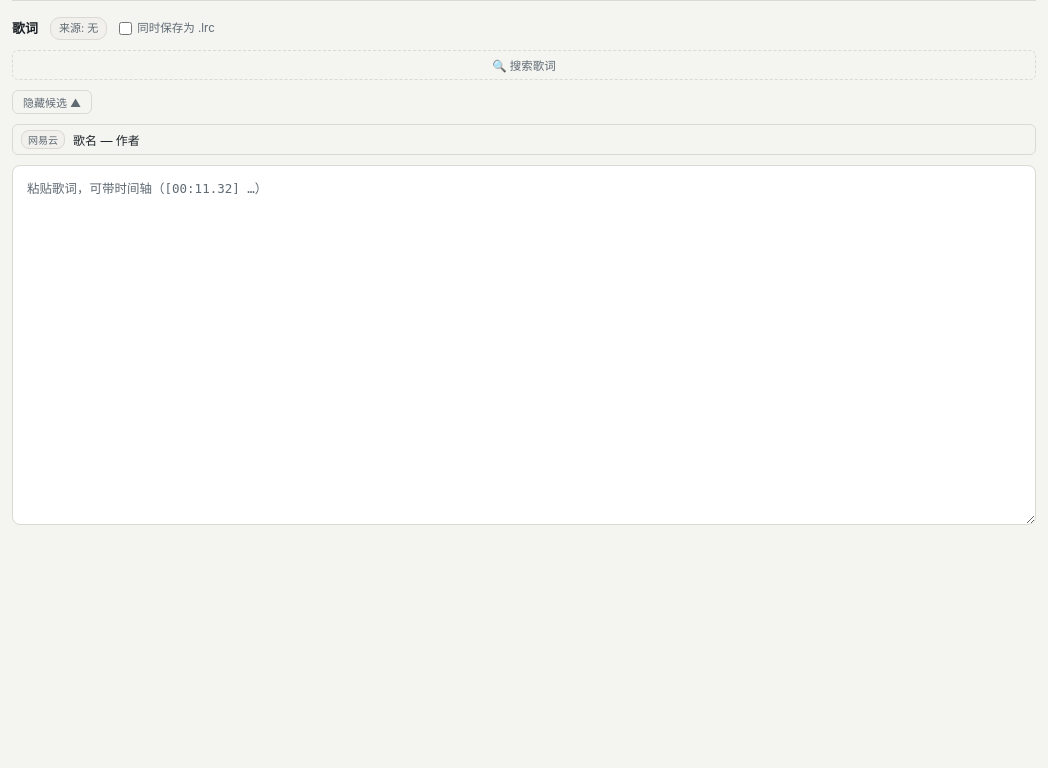
Test: LyricPanel — 歌词候选区（v1-search-ui D8：status/列表/空态/离线） › 点选候选 → fetch_lyric 拉文本填入 current.lyrics + badge 更新为平台（D4，仍可编辑）
The image size is (1048, 768).
Step 1. Click the button with class "cand-row" → (43, 139), box [12,124,1036,154]
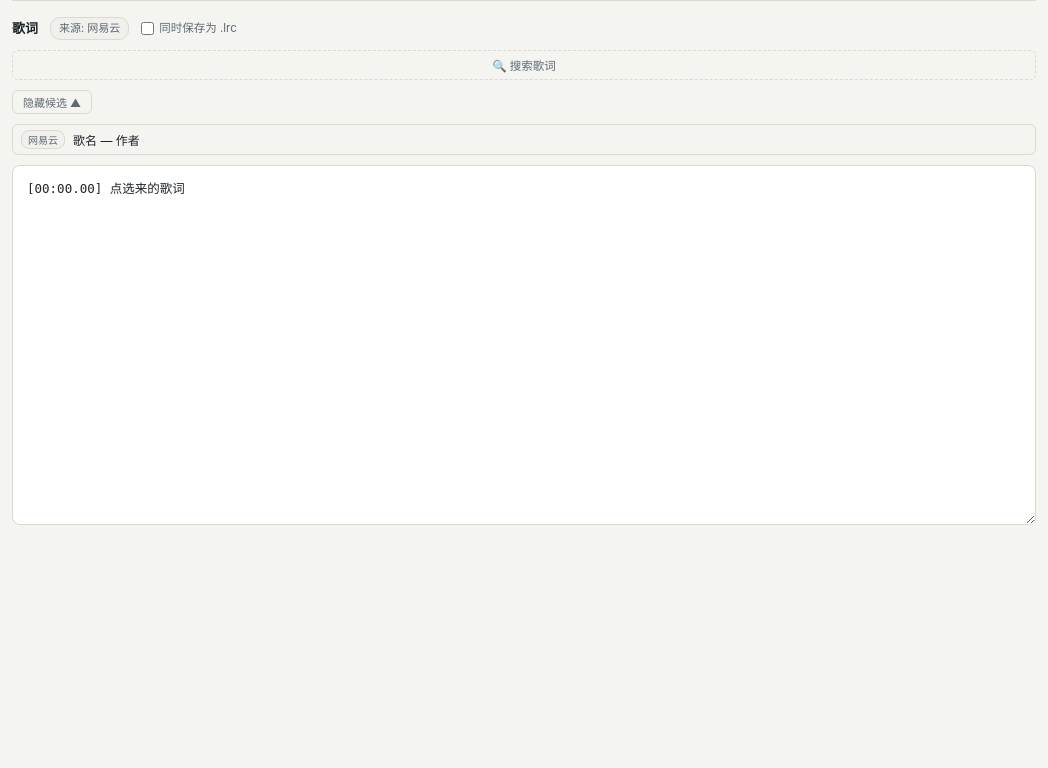
Check: the text with class "badge" reads "来源: 网易云", box [59,21,120,35]
